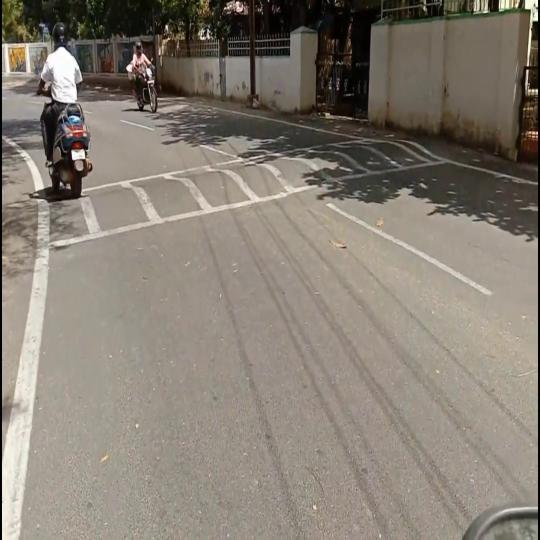Speed Bump: (94, 138, 444, 233), (3, 195, 75, 258)
